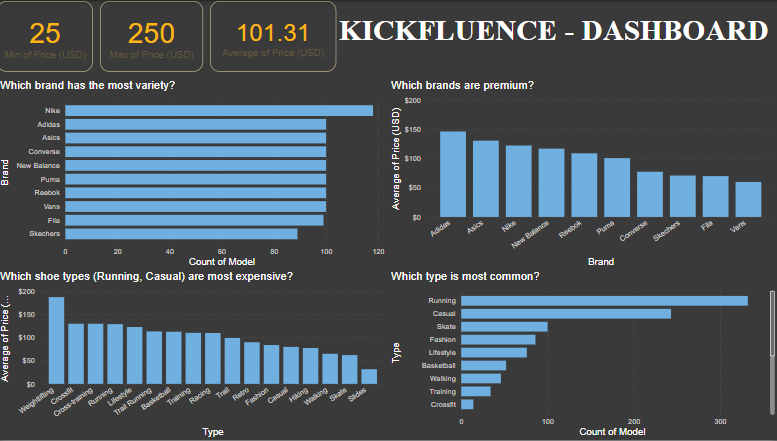

This screenshot's page, from the dashboard's own definition file:
{"tool":"powerbi","page":{"name":"Page 1","canvas":[1280,720],"ordinal":0},"visuals":[{"type":"textbox","box":[555.6,0,724.4,116.4],"z":4},{"type":"card","fields":{"Values":["Min(Shoe prices.Price (USD))"]},"box":[0,0,157.3,116.4],"z":5},{"type":"card","fields":{"Values":["Max(Shoe prices.Price (USD))"]},"box":[168.8,0,168.8,116.4],"z":6},{"type":"card","fields":{"Values":["Avg(Shoe prices.Price (USD))"]},"box":[349.1,0,206.5,116.4],"z":7},{"type":"barChart","title":"Which brand has the most variety?","fields":{"Y":["CountNonNull(Shoe prices.Model)"],"Category":["Shoe prices.Brand"]},"box":[0,127.8,640.8,313],"z":8},{"type":"columnChart","title":"Which brands are premium?","fields":{"Category":["Shoe prices.Brand"],"Y":["Avg(Shoe prices.Price (USD))"]},"box":[640.8,127.8,639.2,313],"z":9},{"type":"clusteredColumnChart","title":"Which shoe types (Running, Casual) are most expensive?","fields":{"Category":["Shoe prices.Type"],"Y":["Avg(Shoe prices.Price (USD))"]},"box":[0,440.9,640.8,278.6],"z":10},{"type":"barChart","title":"Which type is most common?","fields":{"Category":["Shoe prices.Type"],"Y":["CountNonNull(Shoe prices.Model)"]},"box":[640.8,440.9,639.2,278.6],"z":11}]}

Visuals, with their boxes in screenshot pixels (x1, y1, x2, y2), scaled from the page's 1280x720 canvas onto the 777x441 screenshot:
textbox: box(337, 0, 776, 71)
card - Min(Shoe prices.Price (USD)): box(0, 0, 95, 71)
card - Max(Shoe prices.Price (USD)): box(102, 0, 205, 71)
card - Avg(Shoe prices.Price (USD)): box(212, 0, 337, 71)
"Which brand has the most variety?" barChart: box(0, 78, 389, 270)
"Which brands are premium?" columnChart: box(389, 78, 776, 270)
"Which shoe types (Running, Casual) are most expensive?" clusteredColumnChart: box(0, 270, 389, 440)
"Which type is most common?" barChart: box(389, 270, 776, 440)
